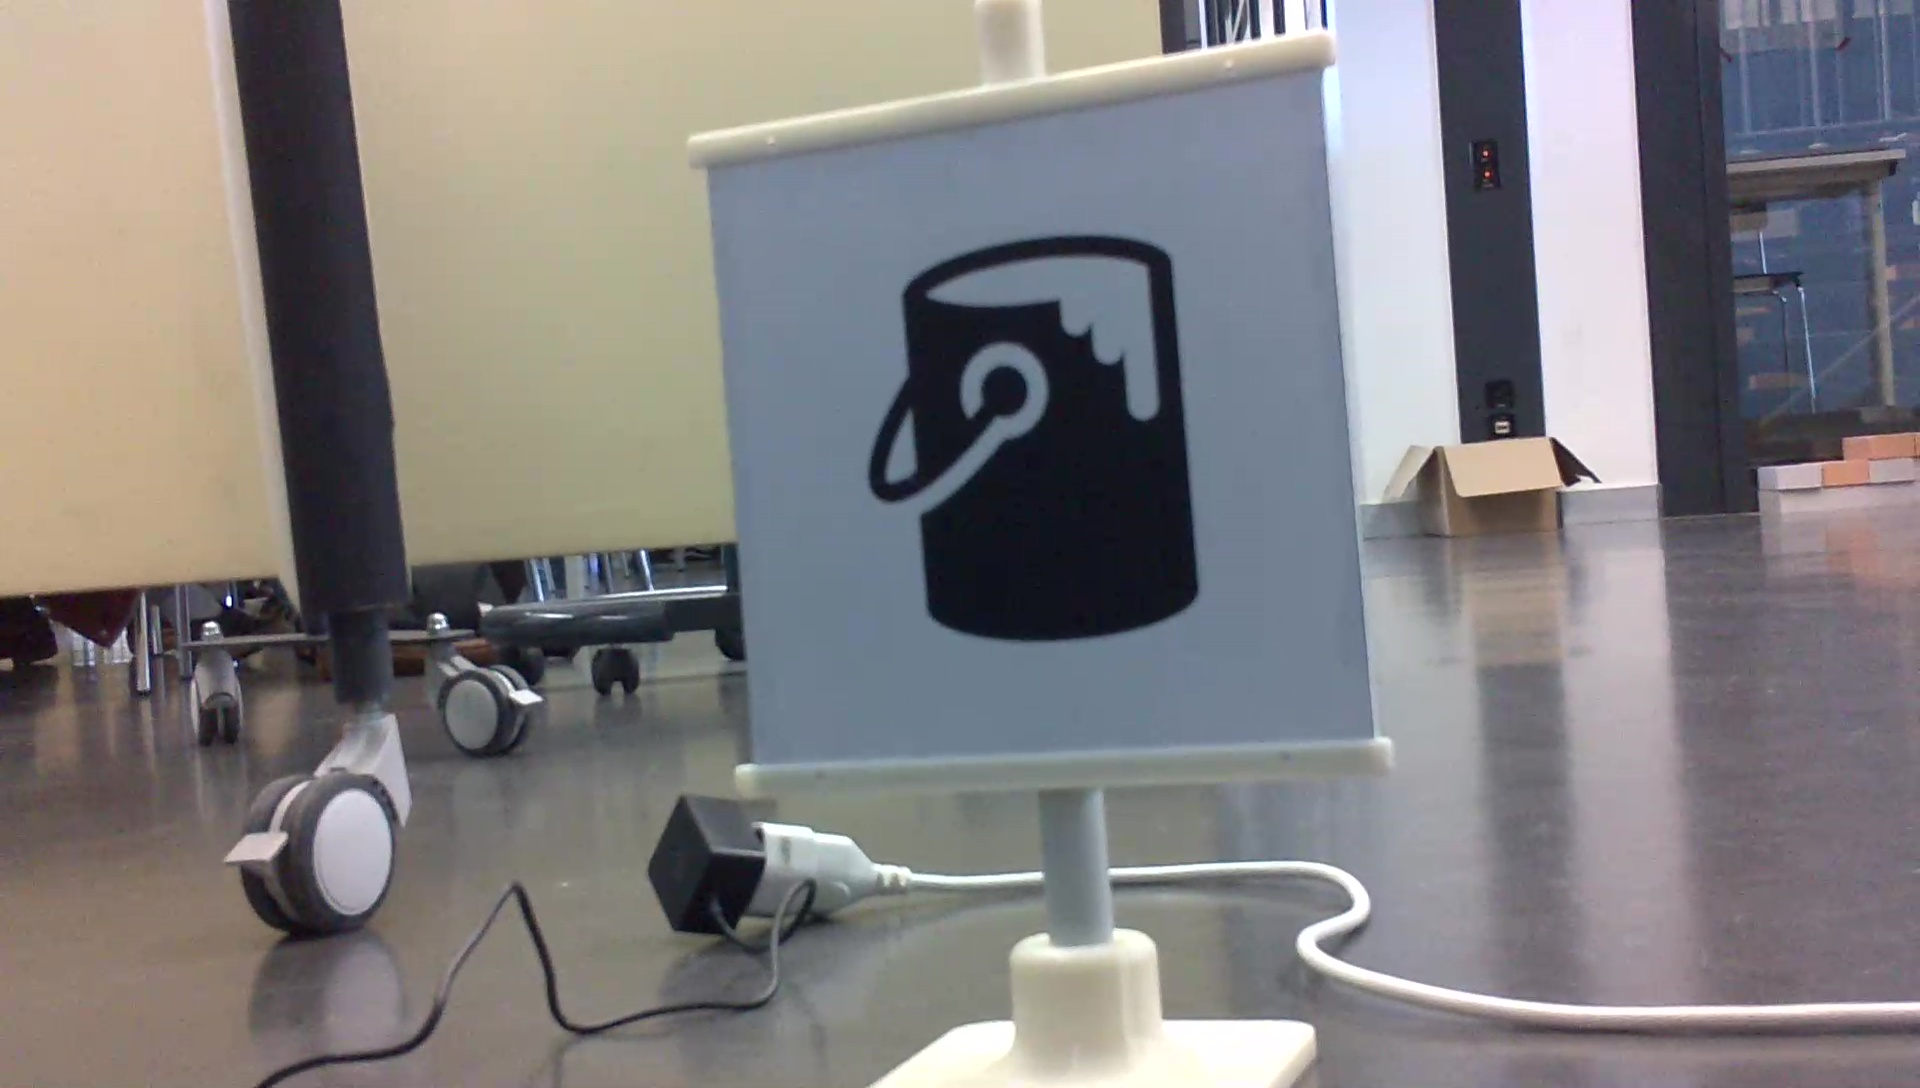bucket: (852, 226, 1212, 653)
